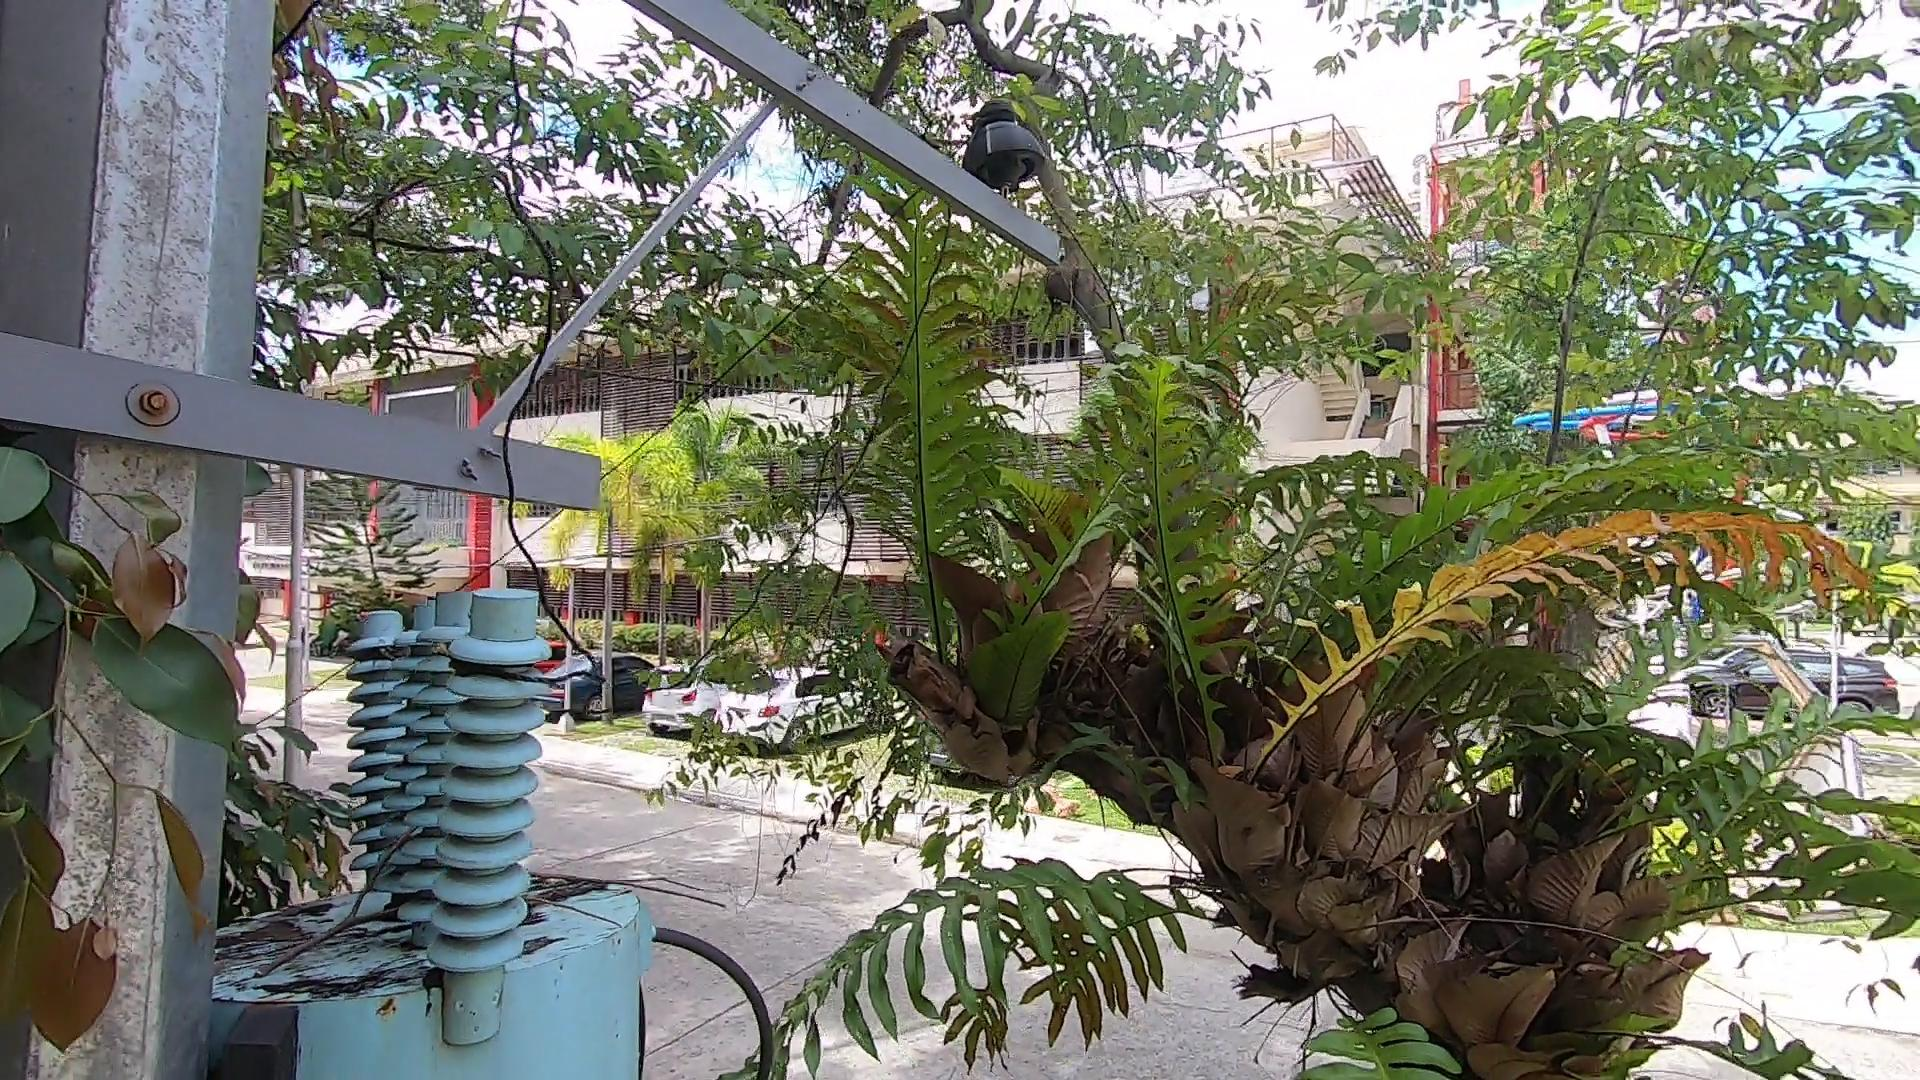branch with leaves: (11, 450, 243, 1058)
leaf: (524, 862, 595, 918), (243, 910, 324, 953), (397, 948, 458, 993)
tree branch: (222, 800, 742, 973)
